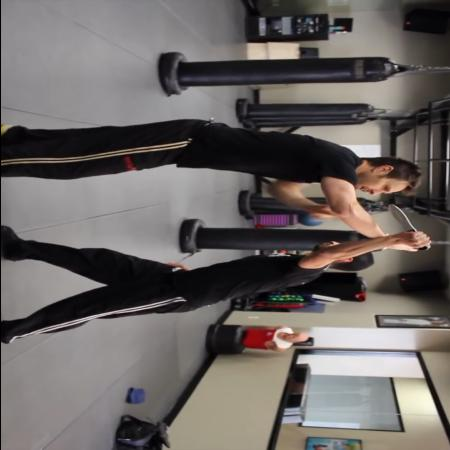long weapon: (384, 202, 434, 254)
